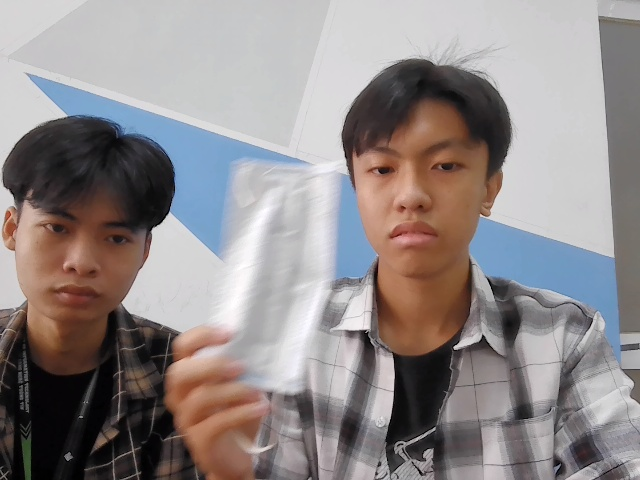human: (329, 50, 528, 283), (7, 106, 170, 330)
mask: (217, 145, 339, 399)
